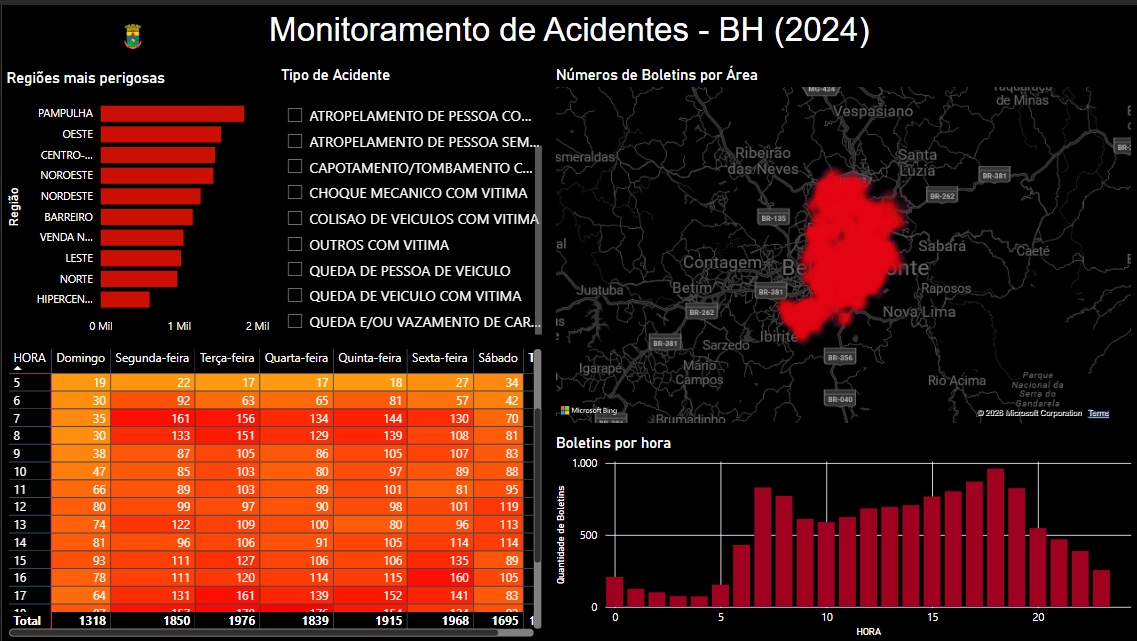

What the dashboard file says about the page in this screenshot:
{"tool":"powerbi","page":{"name":"Página 1","canvas":[1280,720],"ordinal":0},"visuals":[{"type":"map","title":"Números de Boletins por Área","fields":{"Y":["Sheet1.LATITUDE"],"Size":["CountNonNull(Sheet1.NUMERO_BOLETIM)"],"X":["Sheet1.LONGITUDE"]},"box":[615.8,65.8,664.2,414.4],"z":0},{"type":"clusteredColumnChart","title":"Boletins por hora","fields":{"Category":["Sheet1.HORA1"],"Y":["CountNonNull(Sheet1.NUMERO_BOLETIM)1"]},"box":[615.8,480.2,664.2,240.1],"z":1000},{"type":"slicer","title":"Tipo de Acidente","fields":{"Values":["Sheet1.DESC_TIPO_ACIDENTE1"]},"box":[306.5,65.4,309.9,314.4],"z":2000},{"type":"textbox","box":[122.8,0,1032.8,66.7],"z":3000},{"type":"image","box":[0,0,294.2,71.3],"z":4000},{"type":"pivotTable","fields":{"Columns":["Sheet1.DIA_SEMANA"],"Rows":["Sheet1.HORA"],"Values":["CountNonNull(Sheet1.NUMERO_BOLETIM)"]},"box":[0,379.7,616.3,340.3],"z":5000},{"type":"barChart","title":"Regiões mais perigosas","fields":{"Category":["Sheet1.DESC_REGIONAL"],"Y":["CountNonNull(Sheet1.NUMERO_BOLETIM)"]},"box":[0,72.1,306.5,307.6],"z":6000}]}

Visuals, with their boxes in screenshot pixels (x1, y1, x2, y2), scaled from the page's 1280x720 canvas onto the 1137x641 screenshot:
"Números de Boletins por Área" map: select_region(547, 59, 1136, 428)
"Boletins por hora" clusteredColumnChart: select_region(547, 428, 1136, 640)
"Tipo de Acidente" slicer: select_region(272, 58, 548, 338)
textbox: select_region(109, 0, 1026, 59)
image: select_region(0, 0, 261, 63)
pivotTable - Sheet1.DIA_SEMANA x Sheet1.HORA: select_region(0, 338, 547, 640)
"Regiões mais perigosas" barChart: select_region(0, 64, 272, 338)
